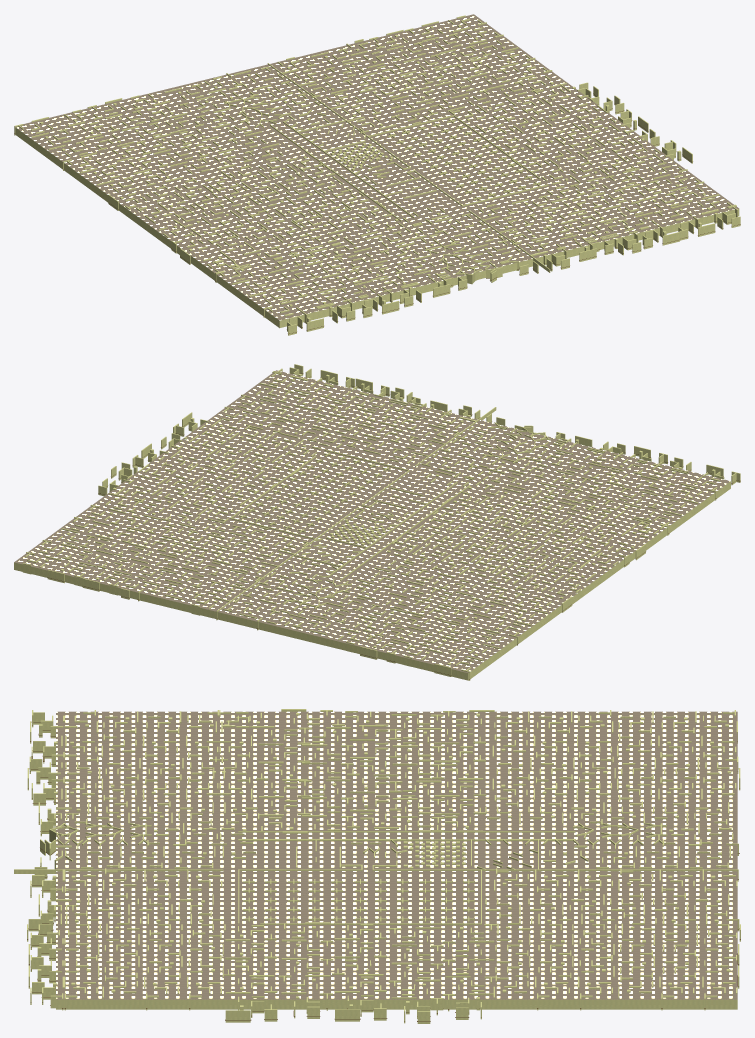
The model's file is backrooms.glb.
The picture shows the model from 3 angles, top to bottom: view 1: azimuth 30°, elevation 25°; view 2: azimuth 150°, elevation 25°; view 3: azimuth 270°, elevation 25°; orthographic projection. The views are drawn at different scales.
Parts seen in each view (by area): view 1: Cube; view 2: Cube; view 3: Cube, Cube.330, Cube.318, Cube.059, Cube.309, Cube.603, Cube.576, Cube.596.
Part boxes in pixels (x1=…): Cube: x1=15, y1=14, x2=739, y2=328; Cube: x1=14, y1=370, x2=730, y2=680; Cube: x1=56, y1=711, x2=737, y2=1009; Cube.330: x1=225, y1=996, x2=277, y2=1022; Cube.318: x1=334, y1=995, x2=387, y2=1021; Cube.059: x1=238, y1=831, x2=575, y2=832; Cube.309: x1=391, y1=997, x2=443, y2=1023; Cube.603: x1=30, y1=976, x2=65, y2=1010; Cube.576: x1=27, y1=756, x2=62, y2=790; Cube.596: x1=28, y1=955, x2=63, y2=988.
Bounding box in the file's own units: 578 × 19.47 × 586.
4 materials, 4 textured.
